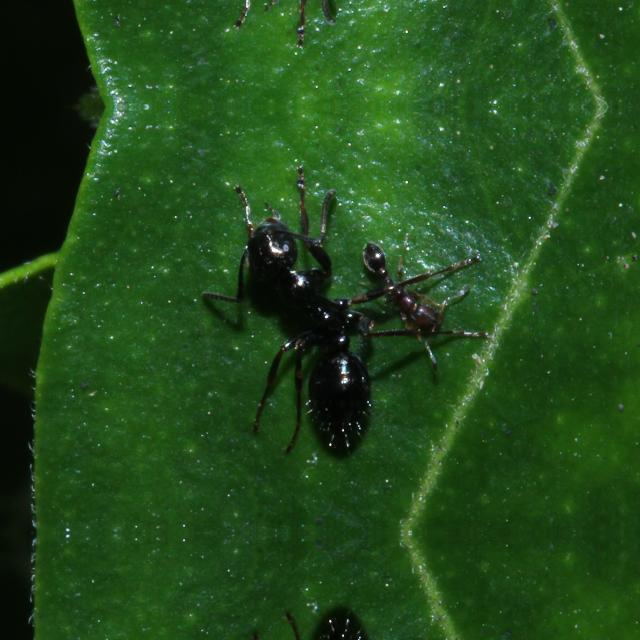Colobopsis: (203, 203, 391, 437), (348, 236, 478, 350)
